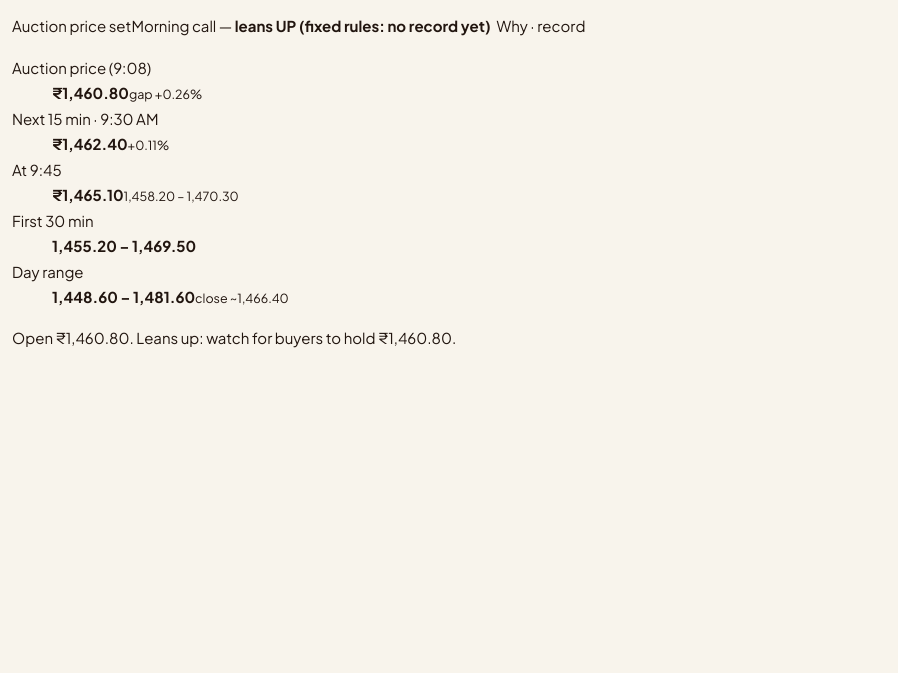
Test: before it has learned, the call says it rests on fixed rules and claims no record
Expected: the element "Morning call" shows "fixed rules: no record yet", [235,16,490,35]
Click the button "Why · record".
click(541, 26)  # box [491,12,591,40]
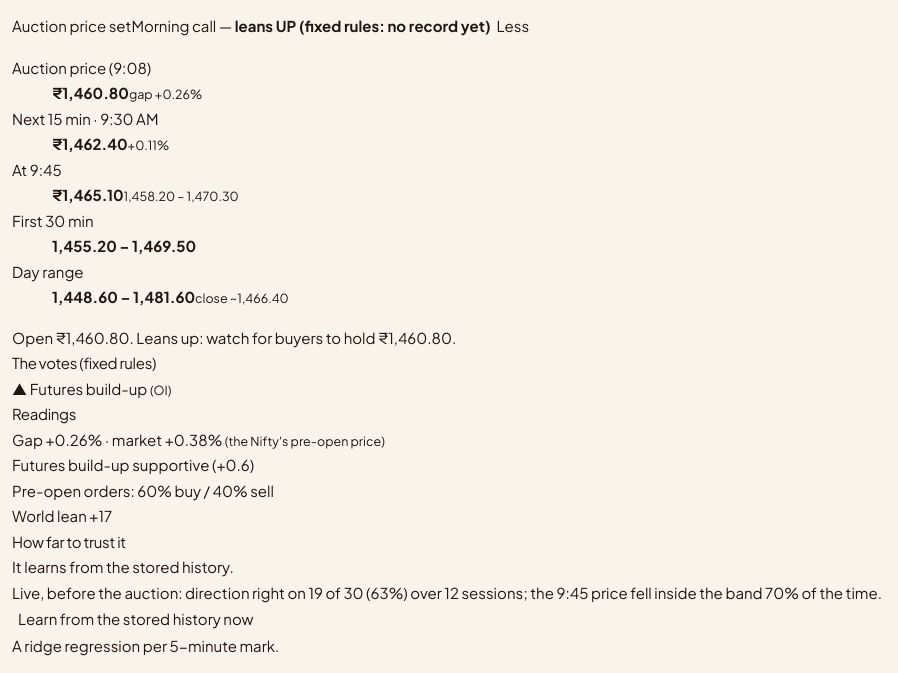
Expected: the heading "The votes (fixed rules)" is shown, [12,353,156,372]
Expected: the button "Learn from the stored history now" is shown, [12,605,260,632]
